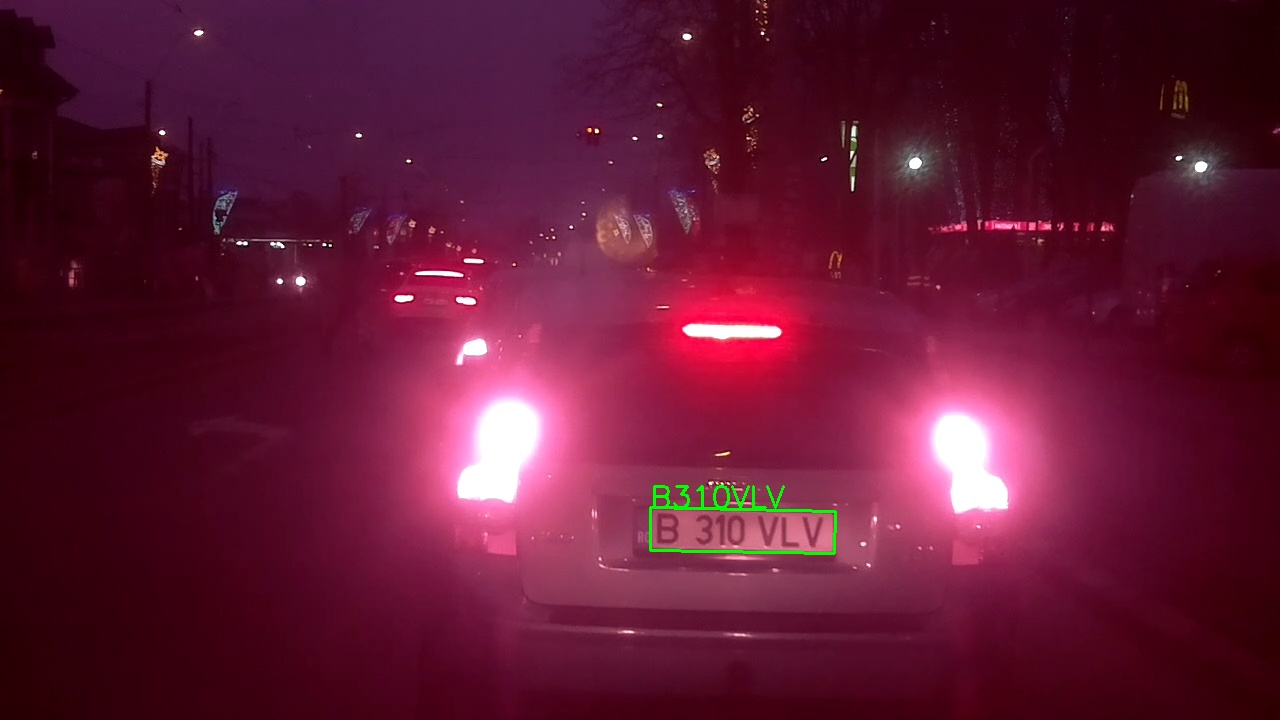license-plate: (649, 507, 836, 555)
